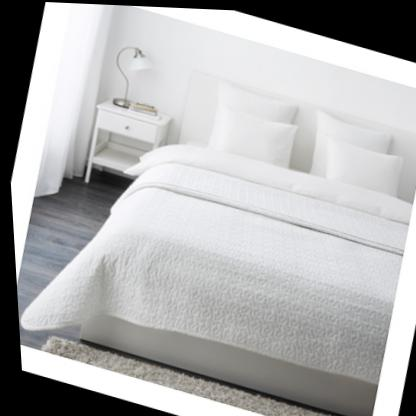Bed: (51, 39, 416, 416)
